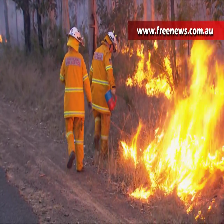fire_h: (129, 40, 224, 217), (121, 41, 176, 99), (121, 119, 142, 167)
fire_l: (131, 185, 154, 201), (195, 210, 206, 221), (186, 202, 194, 214), (208, 199, 215, 212), (1, 33, 8, 43)
